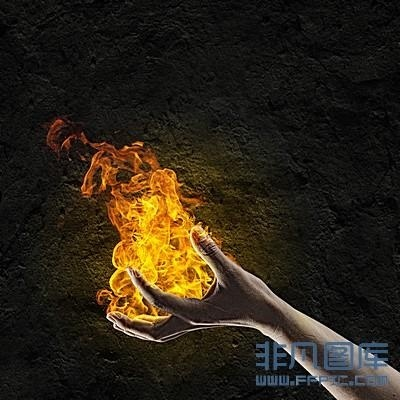fire: (67, 121, 230, 320)
